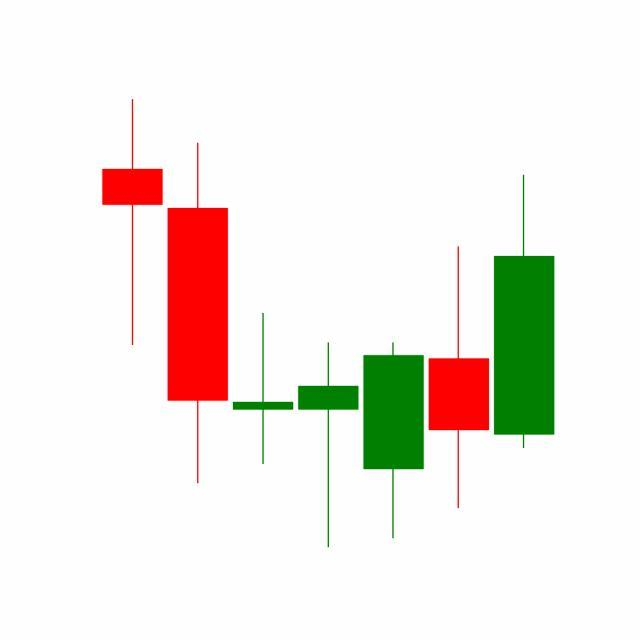Hikkake Pattern: (229, 170, 555, 548)
